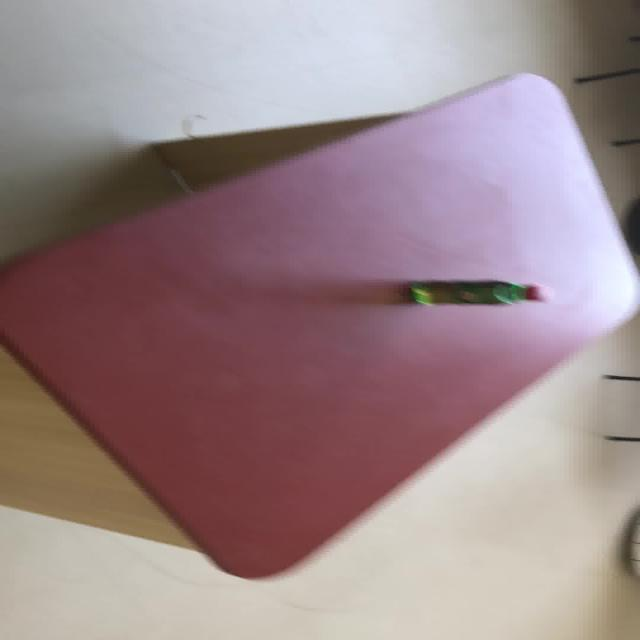guarana: (1, 71, 637, 578), (404, 279, 548, 306)
